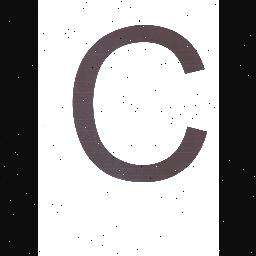c: (62, 14, 218, 188)
